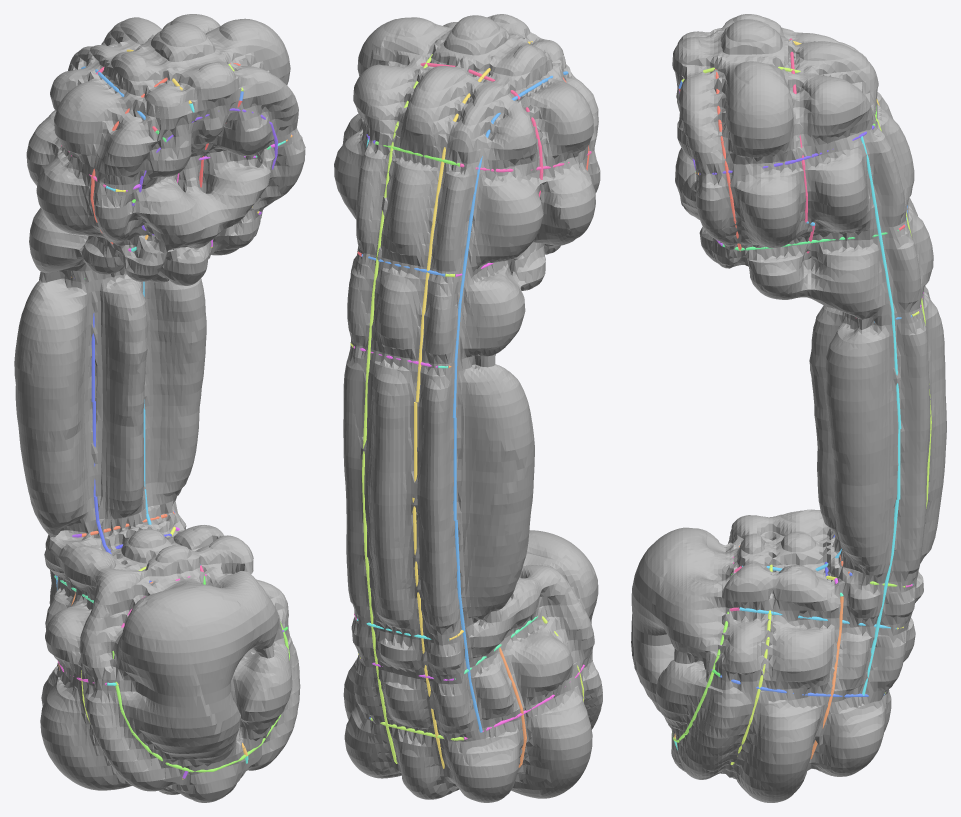
The model's file is flowrep_phone.gltf.
3 views of the same model, side by side, from view 1: azimuth 30°, elevation 25°; view 2: azimuth 150°, elevation 25°; view 3: azimuth 270°, elevation 25° (orthographic).
Bounding box in the file's own units: 0.3299 × 0.9806 × 0.3691.
